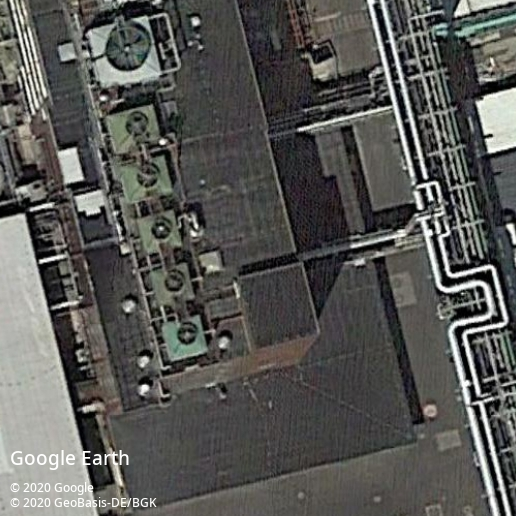Vent: (105, 26, 153, 73), (124, 112, 150, 137), (135, 165, 160, 189), (162, 271, 186, 295), (175, 323, 198, 346), (149, 219, 172, 241)
